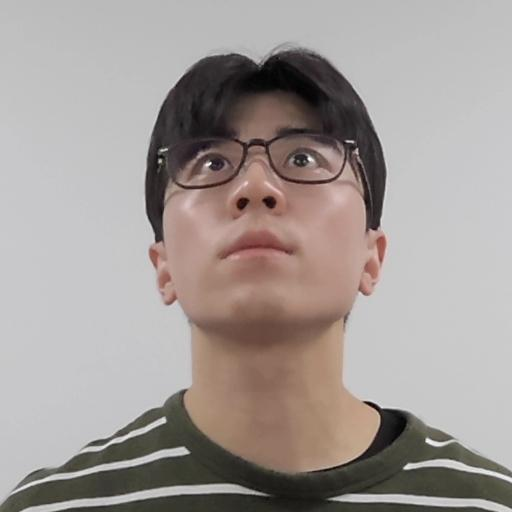no_glasses: (145, 45, 397, 353)
